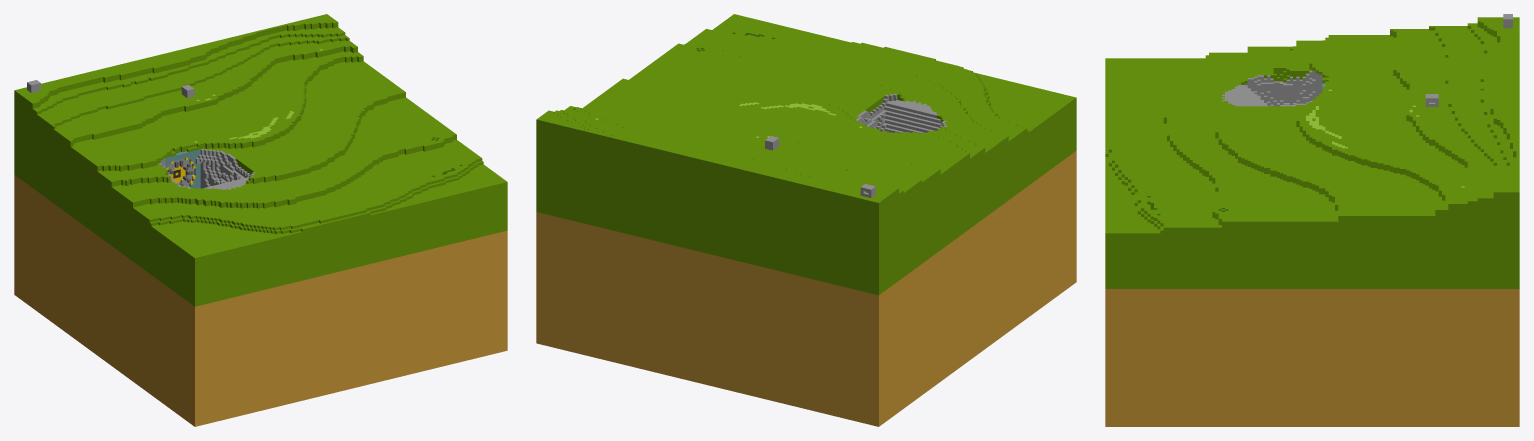
3 renders of one model, left to right at view 1: azimuth 30°, elevation 25°; view 2: azimuth 150°, elevation 25°; view 3: azimuth 270°, elevation 25°, orthographic. The views are drawn at different scales.
Parts seen in each view (by area): view 1: 8B; view 2: 8B; view 3: 8B.
Boxes of the visible parts, x1=… form: 8B: x1=14, y1=14, x2=507, y2=426; 8B: x1=536, y1=14, x2=1076, y2=426; 8B: x1=1105, y1=14, x2=1519, y2=426.
Bounding box in the file's own units: 12.8 × 8.3 × 12.8.
1 material, 1 textured.
